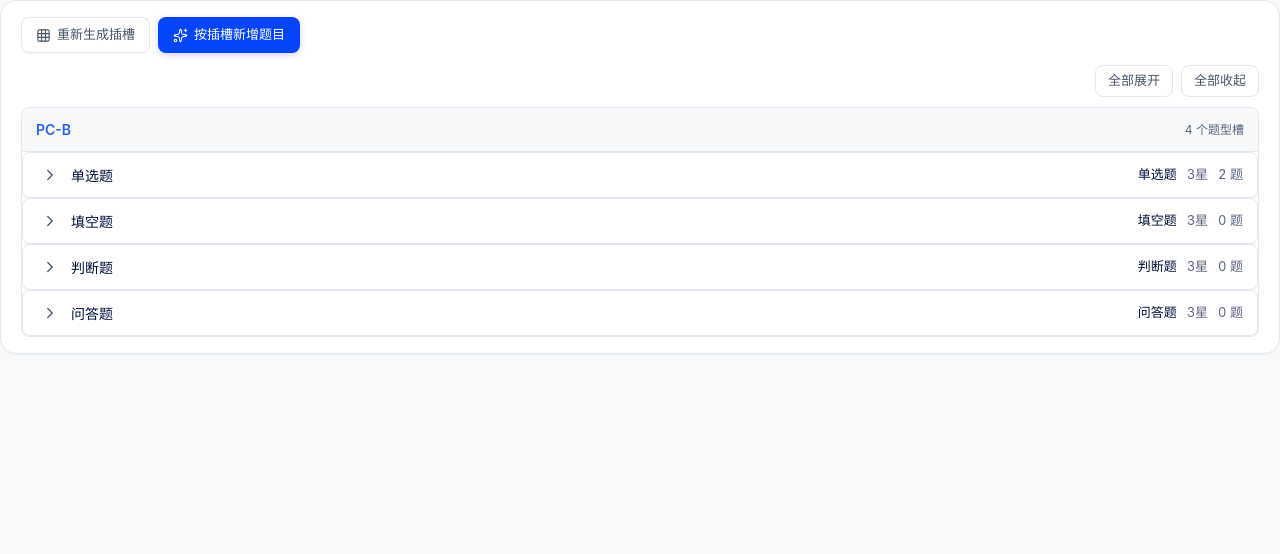
Scenario: AssessmentSlotsSection › groups reusable type slots under one matrix cell and keeps multiple questions in one slot
Check: the text "4 个题型槽" is shown, box [1185, 120, 1244, 138]
Step 1. Click the button named "单选题" → (50, 175), box [37, 162, 63, 188]
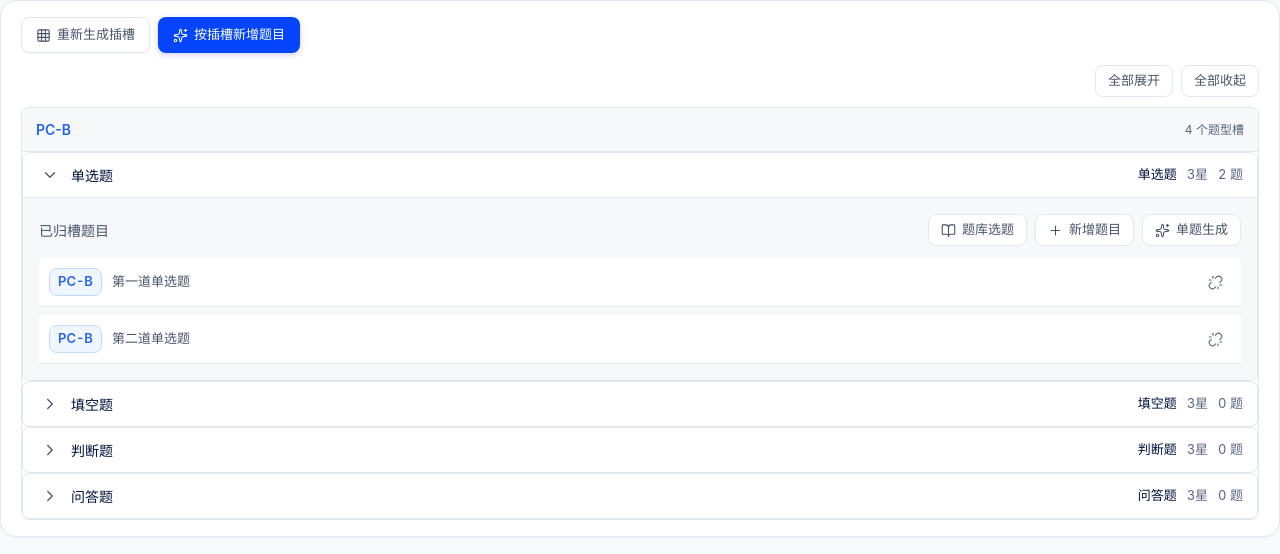
Check: the text "第一道单选题" is shown, box [112, 273, 190, 289]
Check: the text "第二道单选题" is shown, box [112, 330, 190, 346]
